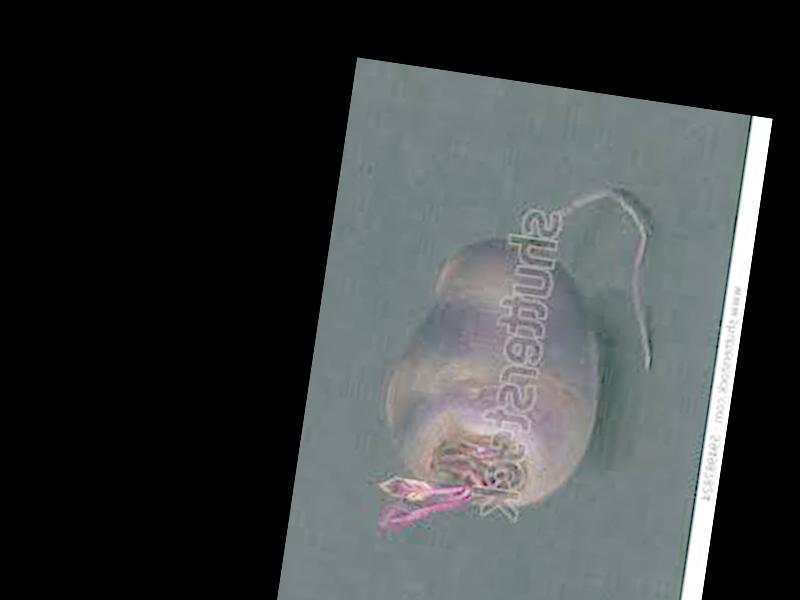Beet: (365, 163, 673, 570)
